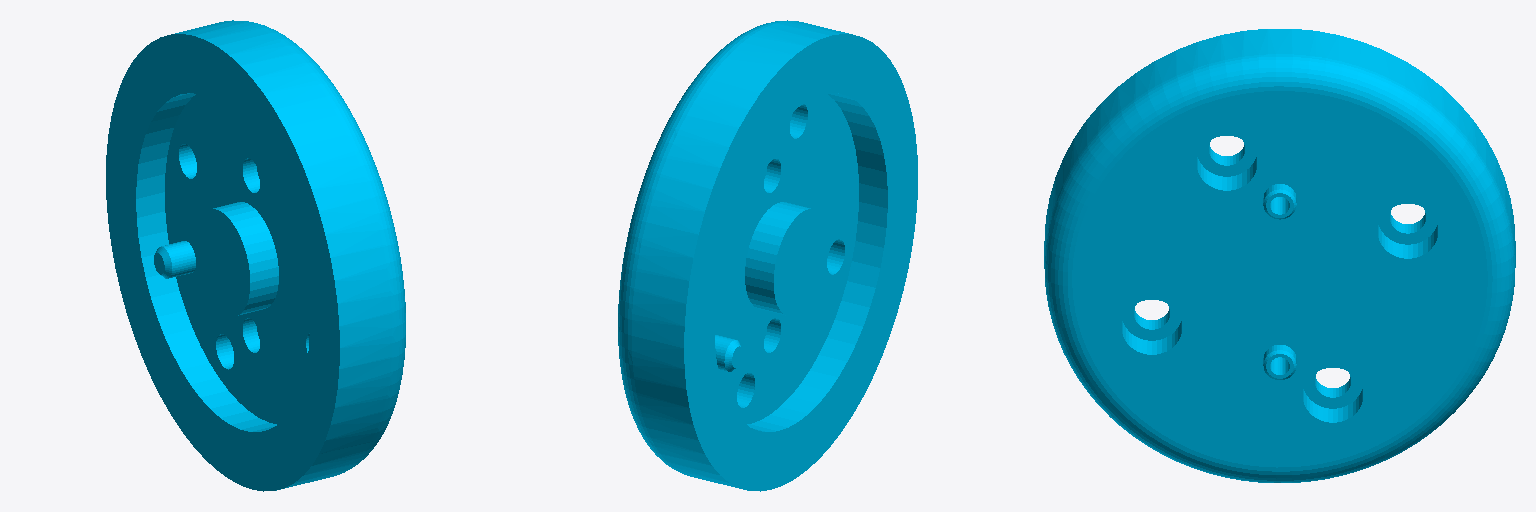
robot.urdf — elfin_mount:
<?xml version="1.0" encoding="utf-8"?>
<!-- This URDF was automatically created by SolidWorks to URDF Exporter! Originally created by [author] ([email redacted]) 
     Commit Version: 1.6.0-1-g15f4949  Build Version: 1.6.7594.29634
     For more information, please see http://wiki.ros.org/sw_urdf_exporter -->
<robot name="elfin_mount">
  <link name="elfin_mount">
    <inertial>
      <origin xyz="0.0029003 -2.2145E-05 -5.3463E-05" rpy="0 0 0" />
      <mass value="0.066326" />
      <inertia ixx="6.5357E-05" ixy="-8.4637E-09" ixz="-2.0433E-08" iyy="3.3967E-05" iyz="-3.3847E-08" izz="3.3841E-05" />
    </inertial>
    <visual>
      <origin xyz="0 0 0" rpy="0 0 0" />
      <geometry>
        <mesh filename="package://rosi_schunk/mesh/elfin_mount/elfin_mount.STL" />
      </geometry>
      <material name="elfin_mount">
        <color rgba="0 0.8 1 1" />
      </material>
    </visual>
    <collision>
      <origin xyz="0 0 0" rpy="0 0 0" />
      <geometry>
        <mesh filename="package://rosi_schunk/mesh/elfin_mount/elfin_mount.STL" />
      </geometry>
    </collision>
  </link>
</robot>

--- What the picture shows (computed from the rendered views, not written in the file) ---
The picture shows the robot from 3 angles, left to right: view 1: azimuth 30°, elevation 25°; view 2: azimuth 150°, elevation 25°; view 3: azimuth 270°, elevation 25°; orthographic projection.
Model elfin_mount with 1 links and 0 joints (none), rooted at elfin_mount, posed every joint at zero.
Visible links, largest first — view 1: elfin_mount; view 2: elfin_mount; view 3: elfin_mount.
Link boxes in pixels (left/top/right/bottom): elfin_mount: left=106, top=20, right=405, bottom=491; elfin_mount: left=618, top=20, right=917, bottom=491; elfin_mount: left=1044, top=29, right=1515, bottom=482.
Size in the robot's own frame: 0.0189 by 0.085 by 0.085 metres.
1 mesh visuals loaded from 1 distinct referenced files (1 binary STL).
